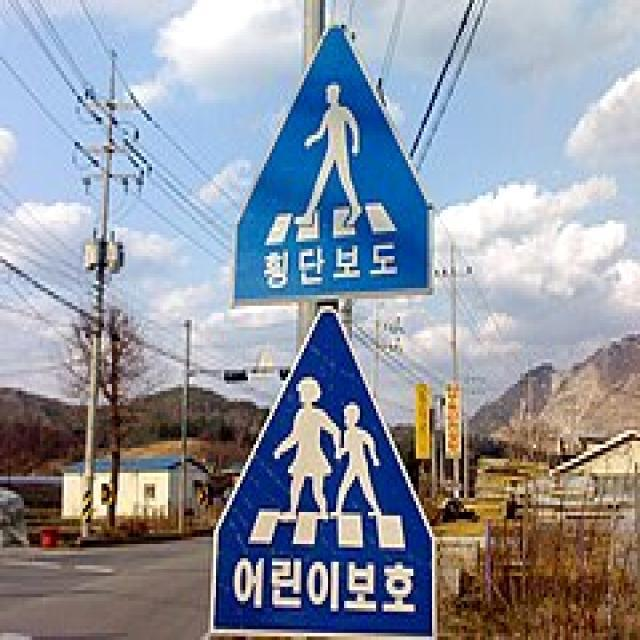Traffic sign: (206, 20, 443, 640)
